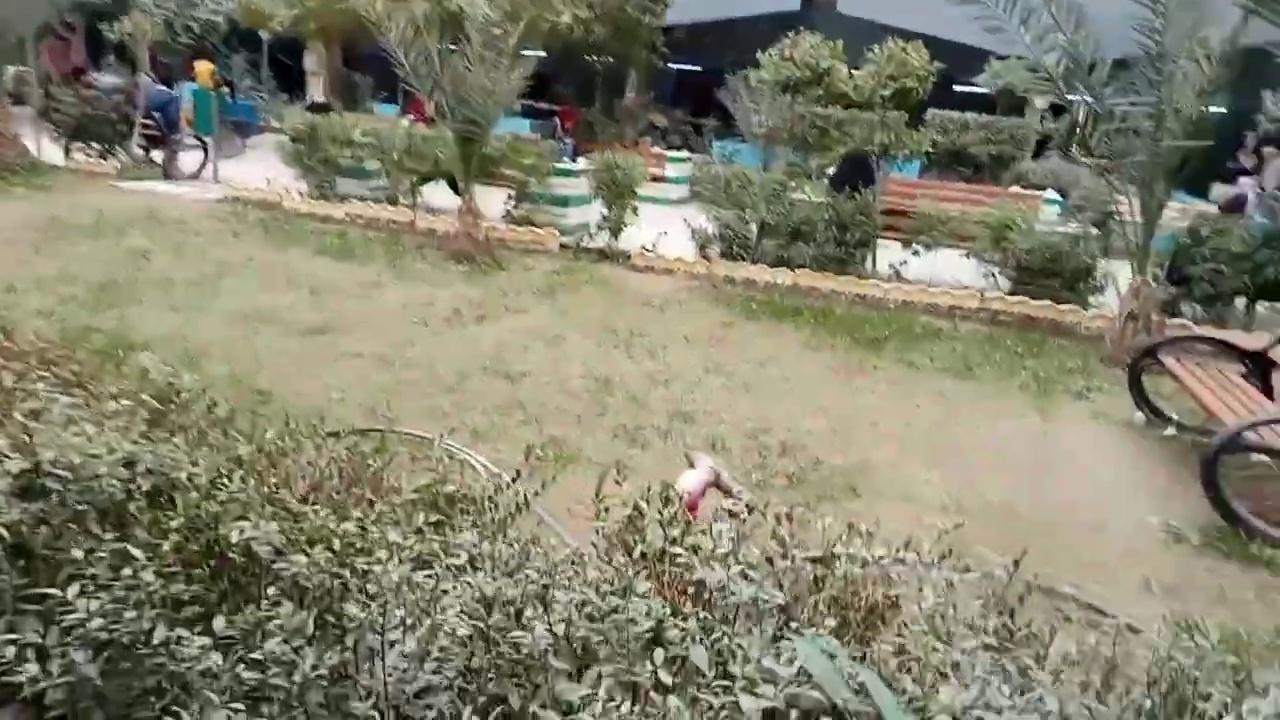tree: (3, 335, 850, 720), (924, 0, 1268, 353), (235, 0, 673, 229), (689, 25, 946, 275), (685, 159, 881, 276)
